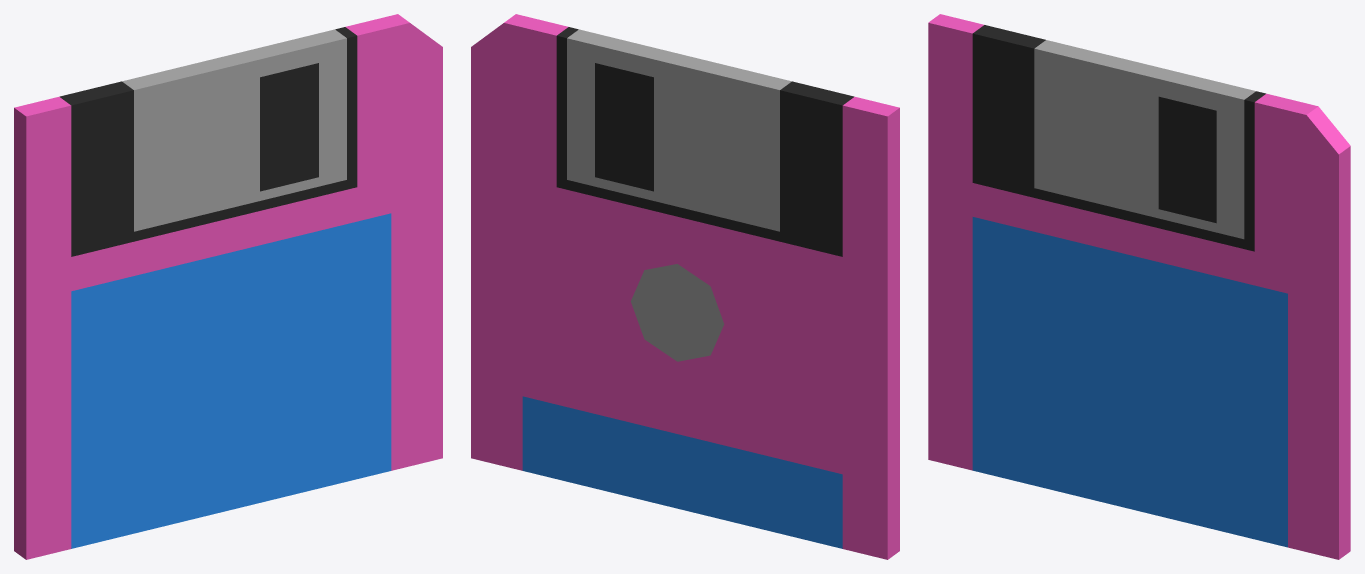
The model's file is floppy_lightpink.FBX.
The picture shows the model from 3 angles, left to right: view 1: azimuth 30°, elevation 25°; view 2: azimuth 150°, elevation 25°; view 3: azimuth 330°, elevation 25°; orthographic projection.
Visible parts, largest first — view 1: floppy_lightpink; view 2: floppy_lightpink; view 3: floppy_lightpink.
Boxes of the visible parts, x1,y1,x2,y2 form: floppy_lightpink: [14, 14, 442, 559]; floppy_lightpink: [471, 14, 899, 559]; floppy_lightpink: [928, 14, 1350, 559].
Bounding box in the file's own units: 54.75 × 55.69 × 2.75.
